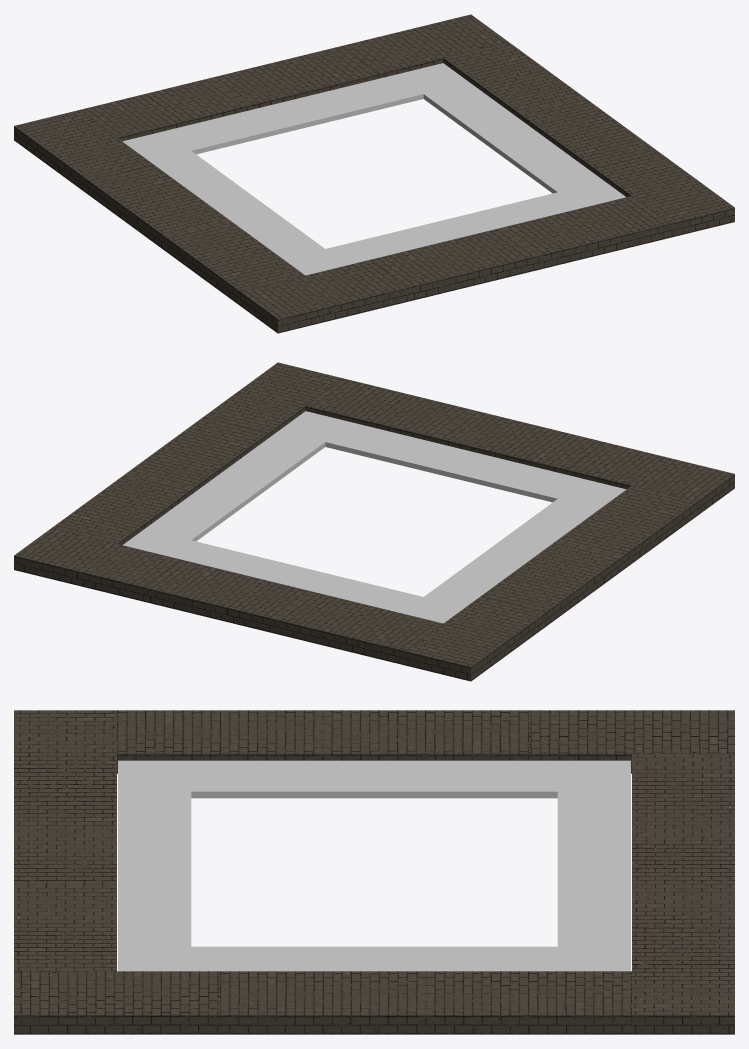
File: roadwithpavement.fbx
The picture shows the model from 3 angles, top to bottom: view 1: azimuth 30°, elevation 25°; view 2: azimuth 150°, elevation 25°; view 3: azimuth 270°, elevation 25°; orthographic projection. The views are drawn at different scales.
Parts seen in each view (by area): view 1: Cube.030, Cube.029, Cube.034, Cube.033, Cube.031, Cube.026, Cube.027, Cube.035, Cube.028, Cube.037, Cube.032, Cube.036 (+12 smaller); view 2: Cube.027, Cube.035, Cube.036, Cube.028, Cube.026, Cube.031, Cube.030, Cube.034, Cube.029, Cube.032, Cube.037, Cube.033 (+12 smaller); view 3: Cube.032, Cube.033, Cube.037, Cube.036, Cube.031, Cube.026, Cube.027, Cube.028, Cube.029, Cube.030, Cube.034, Cube.035 (+12 smaller).
Part boxes in pixels (x1=…): Cube.030: x1=240, y1=259, x2=408, y2=333; Cube.029: x1=371, y1=228, x2=538, y2=301; Cube.034: x1=501, y1=196, x2=669, y2=269; Cube.033: x1=594, y1=152, x2=734, y2=237; Cube.031: x1=164, y1=220, x2=304, y2=305; Cube.026: x1=89, y1=165, x2=229, y2=250; Cube.027: x1=14, y1=110, x2=154, y2=194; Cube.035: x1=210, y1=46, x2=378, y2=110; Cube.028: x1=80, y1=78, x2=247, y2=141; Cube.037: x1=443, y1=42, x2=583, y2=117; Cube.032: x1=519, y1=97, x2=658, y2=173; Cube.036: x1=341, y1=14, x2=508, y2=78; Cube.027: x1=405, y1=596, x2=546, y2=681; Cube.035: x1=144, y1=560, x2=312, y2=633; Cube.036: x1=14, y1=528, x2=181, y2=601; Cube.028: x1=275, y1=592, x2=442, y2=665; Cube.026: x1=481, y1=541, x2=621, y2=626; Cube.031: x1=557, y1=485, x2=697, y2=570; Cube.030: x1=566, y1=442, x2=734, y2=515; Cube.034: x1=305, y1=378, x2=473, y2=442; Cube.029: x1=436, y1=410, x2=603, y2=474; Cube.032: x1=127, y1=417, x2=267, y2=493; Cube.037: x1=52, y1=473, x2=192, y2=545; Cube.033: x1=203, y1=362, x2=342, y2=438; Cube.032: x1=220, y1=971, x2=425, y2=1034; Cube.033: x1=14, y1=971, x2=219, y2=1034; Cube.037: x1=426, y1=971, x2=631, y2=1034; Cube.036: x1=632, y1=928, x2=734, y2=1034; Cube.031: x1=117, y1=710, x2=322, y2=773; Cube.026: x1=323, y1=710, x2=528, y2=760; Cube.027: x1=529, y1=710, x2=734, y2=773; Cube.028: x1=632, y1=753, x2=734, y2=840; Cube.029: x1=14, y1=797, x2=116, y2=884; Cube.030: x1=14, y1=710, x2=116, y2=797; Cube.034: x1=14, y1=884, x2=116, y2=971; Cube.035: x1=632, y1=840, x2=734, y2=927.
Bounding box in the file's own units: 1770 × 53.68 × 1770.
